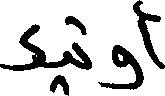X: (103, 0, 141, 94), (0, 19, 45, 75), (143, 7, 164, 84), (74, 12, 89, 74), (65, 11, 70, 95)
